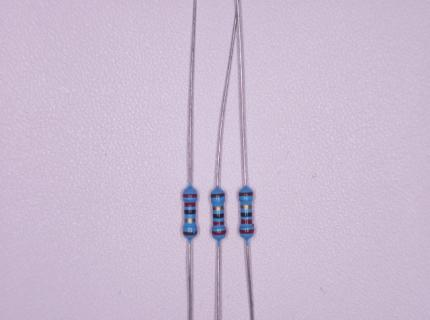Black band: (184, 209, 196, 215), (213, 214, 224, 219), (241, 212, 252, 217)
Brown band: (183, 231, 197, 236), (211, 193, 225, 198), (239, 192, 253, 197)
Gold band: (184, 218, 195, 223), (241, 204, 252, 209), (213, 206, 223, 211)
Red band: (212, 230, 226, 236), (240, 229, 254, 234), (183, 194, 197, 198), (241, 219, 252, 224), (185, 202, 195, 207), (213, 221, 224, 225)
